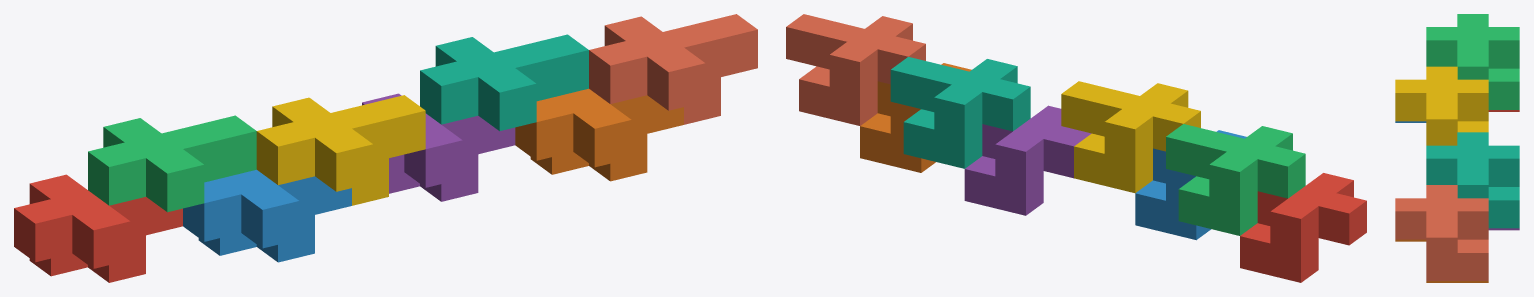
Rendered from tiling.obj.
The picture shows the model from 3 angles, left to right: view 1: azimuth 30°, elevation 25°; view 2: azimuth 150°, elevation 25°; view 3: azimuth 270°, elevation 25°; orthographic projection. The views are drawn at different scales.
Visible parts, largest first — view 1: copy_1_domain_4, copy_1_domain_8, copy_1_domain_3, copy_1_domain_7, copy_1_domain_1, copy_1_domain_6, copy_1_domain_2, copy_1_domain_5; view 2: copy_1_domain_7, copy_1_domain_3, copy_1_domain_4, copy_1_domain_8, copy_1_domain_1, copy_1_domain_5, copy_1_domain_6, copy_1_domain_2; view 3: copy_1_domain_8, copy_1_domain_7, copy_1_domain_3, copy_1_domain_4, copy_1_domain_6, copy_1_domain_5.
Boxes of the visible parts, x1,y1,x2,y2 form: copy_1_domain_4: (256, 95, 425, 205); copy_1_domain_8: (589, 14, 757, 124); copy_1_domain_3: (88, 115, 256, 212); copy_1_domain_7: (420, 34, 588, 131); copy_1_domain_1: (14, 174, 182, 282); copy_1_domain_6: (515, 88, 683, 181); copy_1_domain_2: (183, 169, 351, 262); copy_1_domain_5: (362, 93, 515, 201); copy_1_domain_7: (890, 57, 1030, 168); copy_1_domain_3: (1166, 124, 1305, 235); copy_1_domain_4: (1061, 81, 1200, 193); copy_1_domain_8: (786, 14, 925, 125); copy_1_domain_1: (1240, 173, 1366, 282); copy_1_domain_5: (964, 105, 1091, 215); copy_1_domain_6: (860, 63, 971, 172); copy_1_domain_2: (1135, 130, 1246, 240); copy_1_domain_8: (1395, 185, 1488, 280); copy_1_domain_7: (1426, 132, 1519, 228); copy_1_domain_3: (1426, 14, 1519, 109); copy_1_domain_4: (1395, 66, 1488, 145); copy_1_domain_6: (1395, 239, 1488, 282); copy_1_domain_5: (1488, 228, 1519, 230).
Size of the model in its own units: 19 by 3 by 4.
